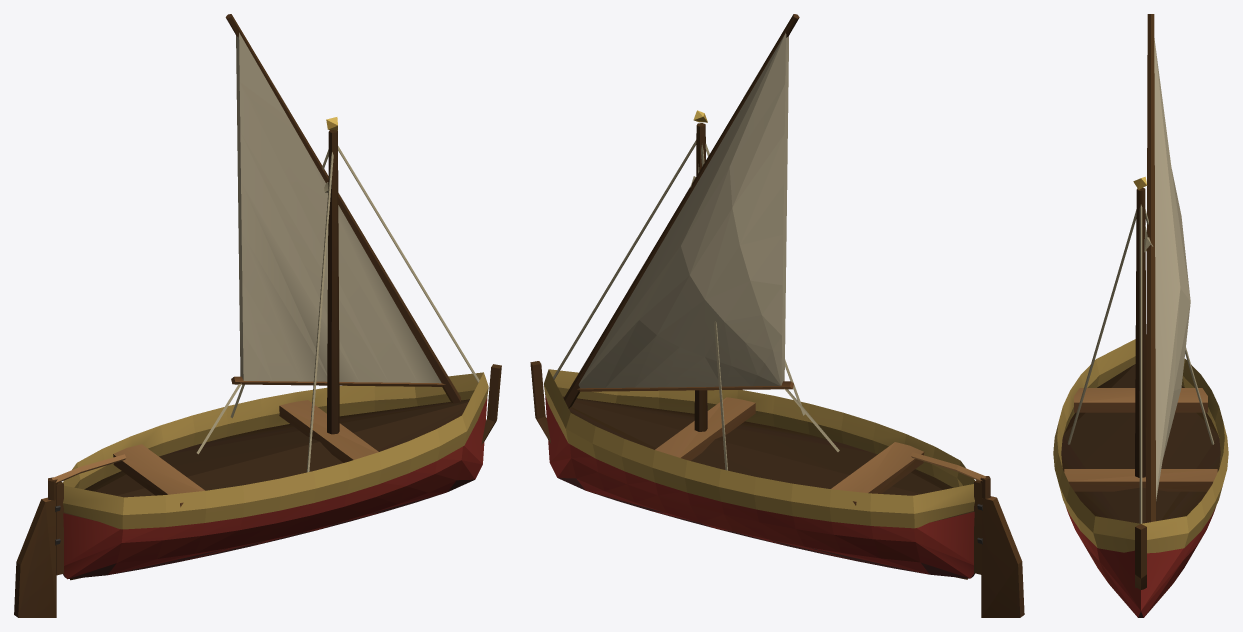
The model's file is mt_sailboat_red.glb.
The picture shows the model from 3 angles, left to right: view 1: azimuth 30°, elevation 25°; view 2: azimuth 150°, elevation 25°; view 3: azimuth 270°, elevation 25°; orthographic projection. The views are drawn at different scales.
Visible parts, largest first — view 1: base, sail_m, rudder_m; view 2: base, sail_m, rudder_m; view 3: base, sail_m.
Part boxes in pixels (box(x1,y1,x2,y2)): base: box(56, 117, 501, 580); sail_m: box(196, 14, 460, 454); rudder_m: box(14, 454, 126, 617); base: box(530, 110, 981, 579); sail_m: box(563, 14, 839, 451); rudder_m: box(911, 452, 1024, 617); base: box(1053, 176, 1228, 617); sail_m: box(1144, 14, 1190, 522).
Bounding box in the file's own units: 1.07 × 1.17 × 0.352.
